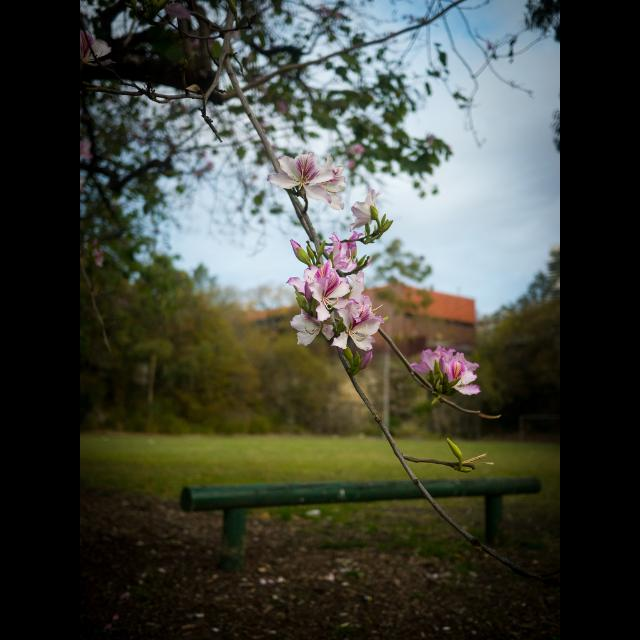Flower: (262, 147, 346, 201), (422, 344, 484, 402), (289, 262, 353, 316), (336, 302, 382, 358), (287, 306, 339, 348), (348, 268, 382, 326), (330, 230, 360, 272), (350, 188, 378, 228)
